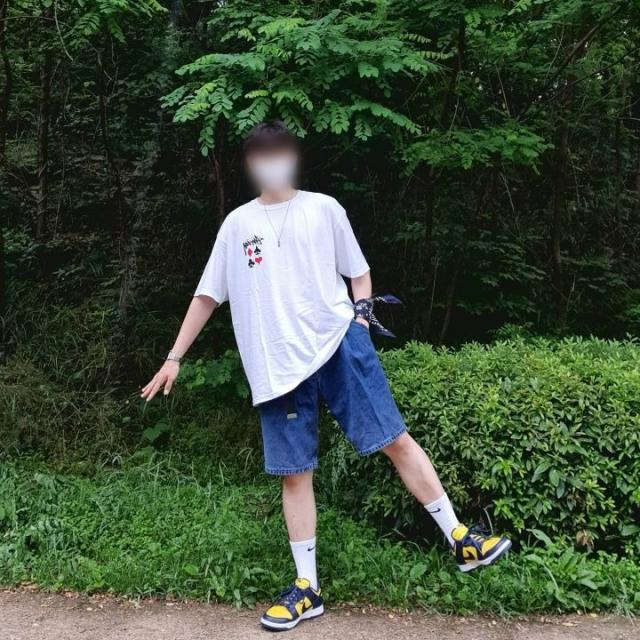shortpants: (259, 317, 407, 475)
shortsleeve: (192, 194, 372, 407)
